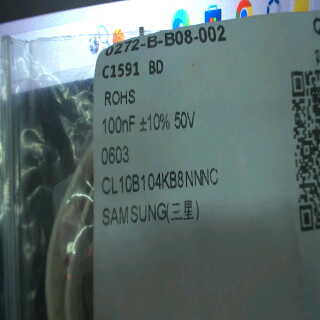100nF: (100, 110, 140, 137)
